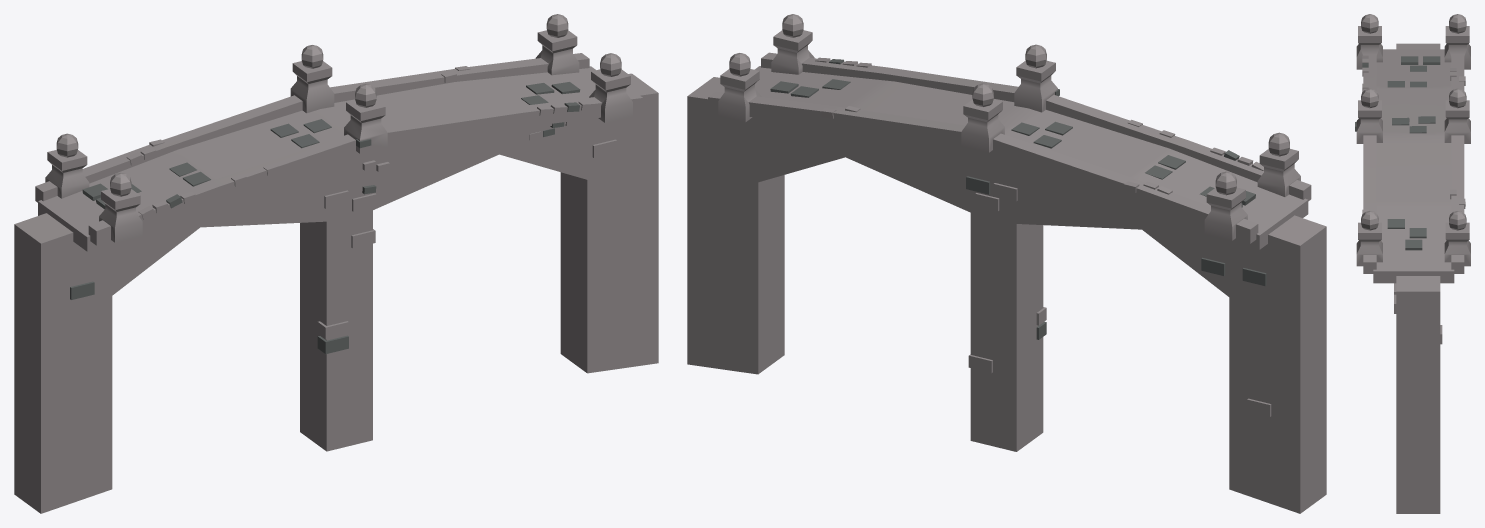
The model's file is 6486ae19-ab85-40a5-8a91-eeabc6c68587.glb.
3 views of the same model, side by side, from view 1: azimuth 30°, elevation 25°; view 2: azimuth 150°, elevation 25°; view 3: azimuth 270°, elevation 25° (orthographic). The views are drawn at different scales.
Parts seen in each view (by area): view 1: Rock_Bridge_2; view 2: Rock_Bridge_2; view 3: Rock_Bridge_2.
Boxes of the visible parts, x1,y1,x2,y2 form: Rock_Bridge_2: (14,14,658,513); Rock_Bridge_2: (687,14,1326,513); Rock_Bridge_2: (1355,14,1470,513).
Size of the model in its own units: 1336 by 770 by 264.
2 materials, 2 textured.
